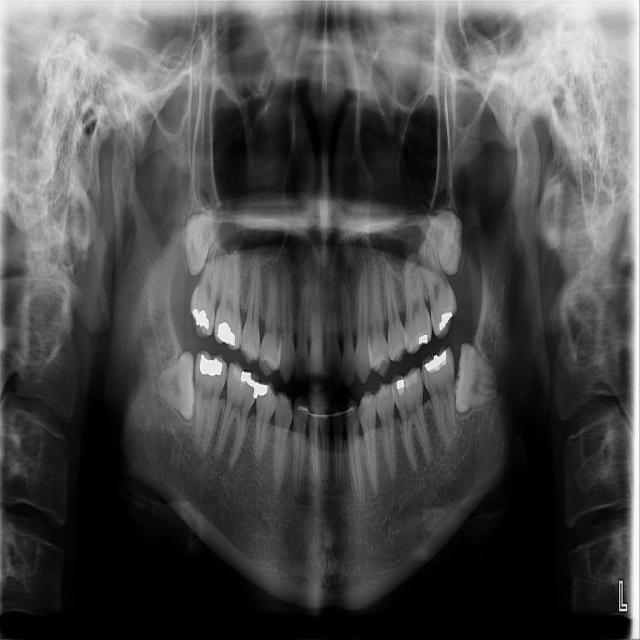Filling: (233, 368, 262, 398), (422, 350, 449, 376), (215, 318, 238, 345), (394, 371, 418, 395), (191, 306, 211, 333), (199, 357, 224, 375), (436, 309, 453, 333), (413, 330, 430, 347), (260, 384, 276, 397)
impacted tooth: (410, 203, 466, 275), (454, 343, 503, 414), (183, 197, 227, 274), (151, 351, 195, 417)
